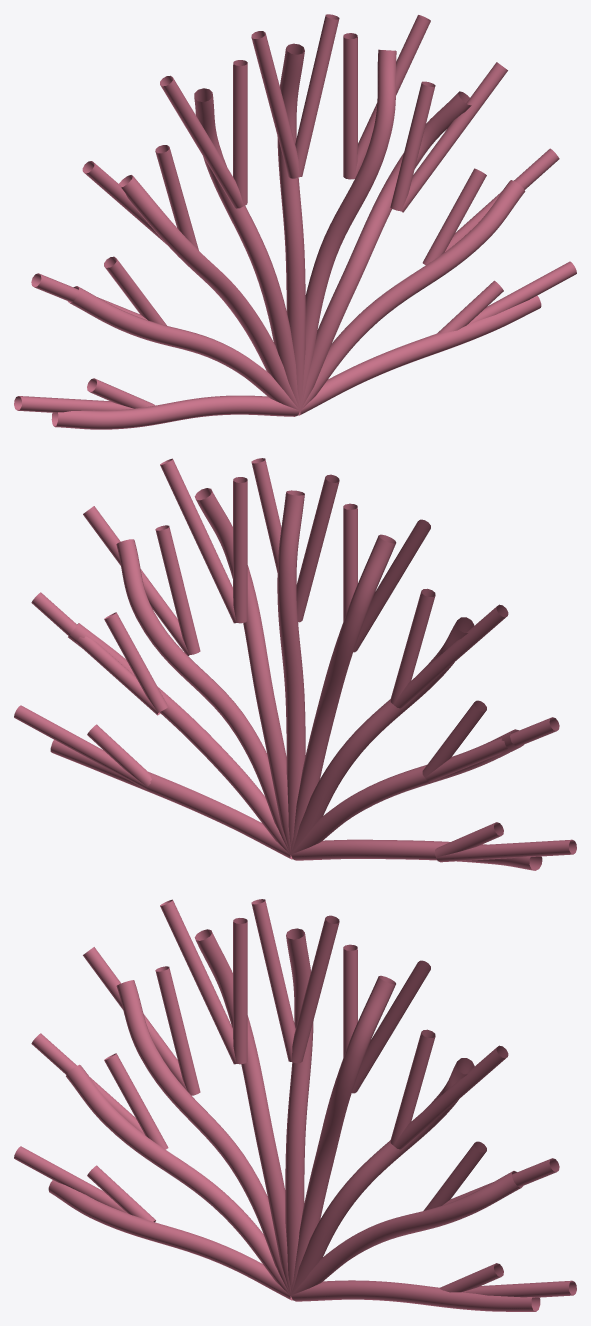
The model's file is fan.glb.
3 renders of one model, top to bottom at view 1: azimuth 30°, elevation 25°; view 2: azimuth 150°, elevation 25°; view 3: azimuth 330°, elevation 25°, orthographic.
Parts seen in each view (by area): view 1: Reef_CoralBranch.003, Reef_CoralBranch.001, Reef_CoralBranch.004, Reef_CoralBranch.002, Reef_CoralBranch.006, Reef_CoralBranch.005, Reef_CoralBranch.007, Reef_CoralBranch.008, Reef_CoralBranch, Reef_CoralTwig.005, Reef_CoralTwig.008, Reef_CoralTwig.009 (+15 smaller); view 2: Reef_CoralBranch.004, Reef_CoralBranch.002, Reef_CoralBranch.005, Reef_CoralBranch.003, Reef_CoralBranch.006, Reef_CoralBranch.001, Reef_CoralBranch, Reef_CoralBranch.008, Reef_CoralBranch.007, Reef_CoralTwig.007, Reef_CoralTwig.008, Reef_CoralTwig.006 (+15 smaller); view 3: Reef_CoralBranch.006, Reef_CoralBranch.003, Reef_CoralBranch.007, Reef_CoralBranch.004, Reef_CoralBranch.005, Reef_CoralBranch.008, Reef_CoralBranch.001, Reef_CoralBranch, Reef_CoralBranch.002, Reef_CoralTwig.010, Reef_CoralTwig.009, Reef_CoralTwig.008 (+15 smaller).
Part boxes in pixels (box(x1,y1,x2,y2)): Reef_CoralBranch.003: box(300, 49, 396, 409); Reef_CoralBranch.001: box(300, 180, 525, 410); Reef_CoralBranch.004: box(277, 43, 305, 404); Reef_CoralBranch.002: box(300, 91, 471, 409); Reef_CoralBranch.006: box(119, 175, 299, 409); Reef_CoralBranch.005: box(194, 88, 300, 409); Reef_CoralBranch.007: box(67, 286, 299, 410); Reef_CoralBranch.008: box(51, 395, 299, 429); Reef_CoralBranch: box(298, 295, 541, 415); Reef_CoralTwig.005: box(401, 62, 507, 212); Reef_CoralTwig.008: box(251, 31, 299, 178); Reef_CoralTwig.009: box(295, 14, 339, 177); Reef_CoralBranch.004: box(277, 490, 305, 846); Reef_CoralBranch.002: box(116, 539, 290, 853); Reef_CoralBranch.005: box(290, 534, 396, 853); Reef_CoralBranch.003: box(194, 488, 290, 853); Reef_CoralBranch.006: box(291, 617, 474, 853); Reef_CoralBranch.001: box(68, 623, 289, 853); Reef_CoralBranch: box(50, 739, 292, 859); Reef_CoralBranch.008: box(291, 839, 542, 870); Reef_CoralBranch.007: box(291, 729, 523, 854); Reef_CoralTwig.007: box(160, 458, 236, 623); Reef_CoralTwig.008: box(296, 474, 339, 622); Reef_CoralTwig.006: box(233, 477, 247, 623); Reef_CoralBranch.006: box(116, 980, 290, 1294); Reef_CoralBranch.003: box(290, 975, 395, 1294); Reef_CoralBranch.007: box(66, 1064, 289, 1294); Reef_CoralBranch.004: box(285, 928, 313, 1288); Reef_CoralBranch.005: box(194, 929, 290, 1294); Reef_CoralBranch.008: box(48, 1180, 292, 1300); Reef_CoralBranch.001: box(291, 1171, 522, 1295); Reef_CoralBranch: box(291, 1280, 540, 1311); Reef_CoralBranch.002: box(291, 1058, 474, 1294); Reef_CoralTwig.010: box(160, 899, 236, 1064); Reef_CoralTwig.009: box(291, 915, 339, 1063); Reef_CoralTwig.008: box(251, 899, 295, 1061).
Bounding box in the file's own units: 3.02 × 2.02 × 0.3573.
